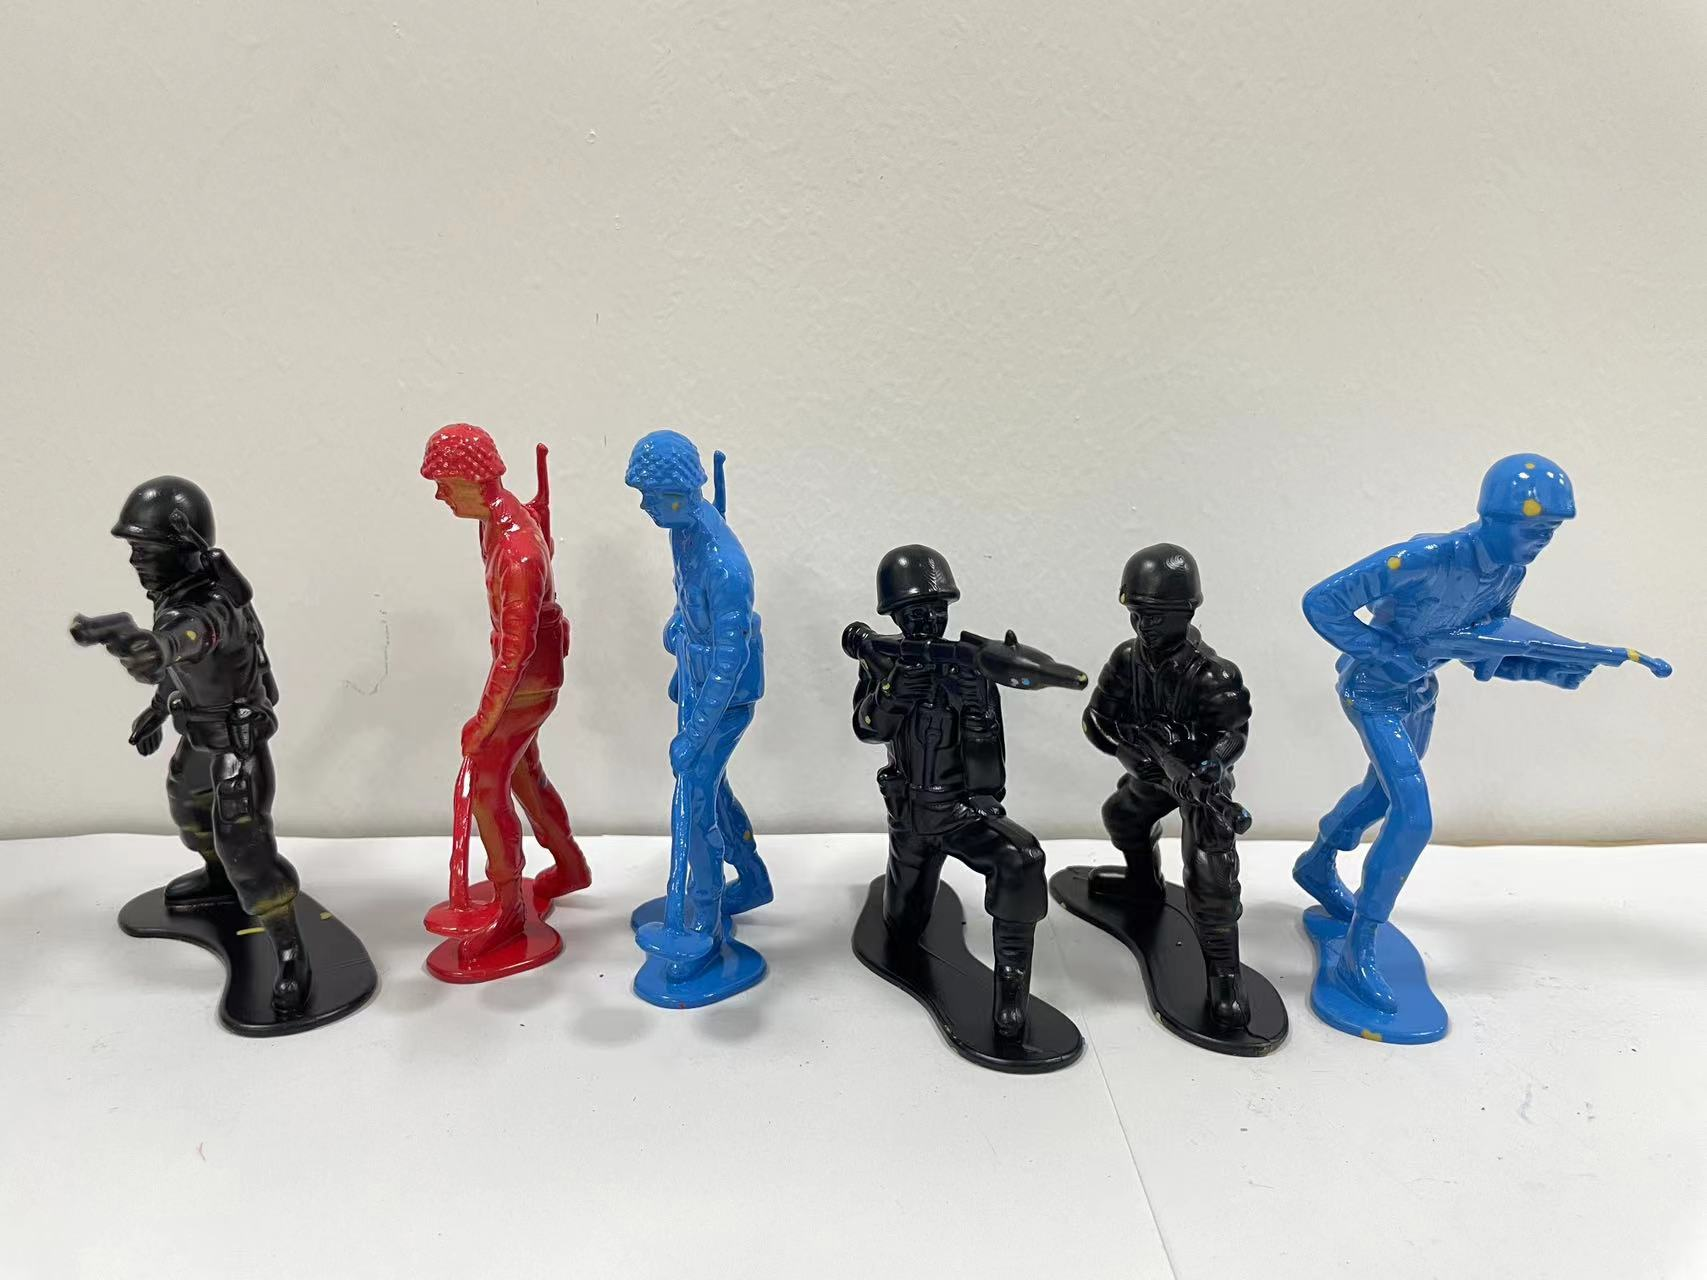black: (31, 450, 388, 1053), (823, 516, 1081, 1086), (1056, 493, 1296, 1082)
blue: (1286, 428, 1685, 1108), (610, 406, 827, 1038)
red: (403, 385, 613, 1014)
